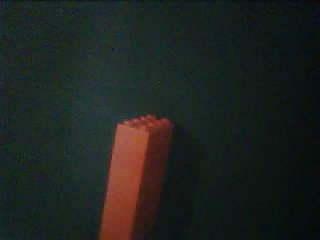lego: (98, 115, 174, 240)
